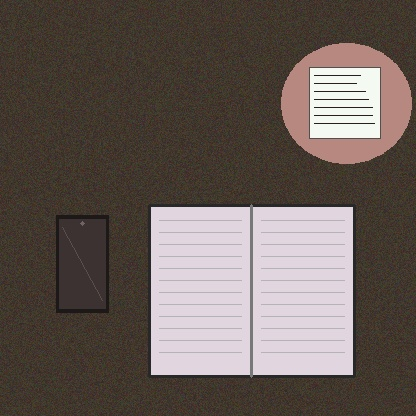book: (149, 205, 354, 376)
cell_phone: (56, 215, 108, 312)
exam_chit: (309, 67, 380, 138)
